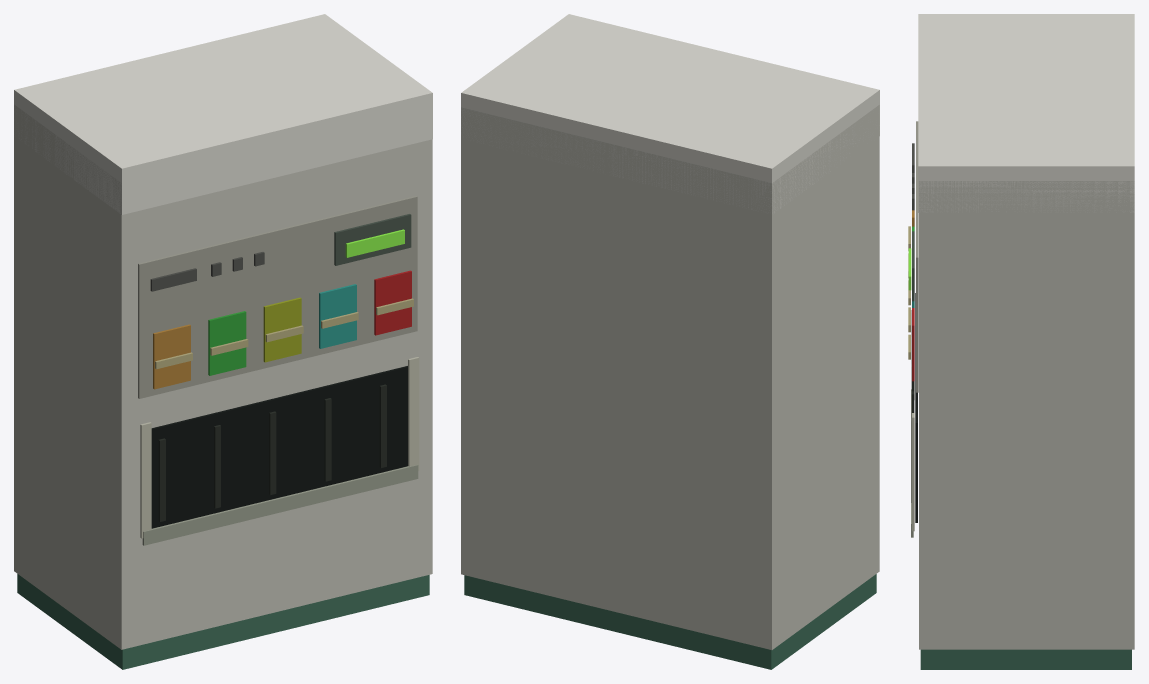
File: CMU3DGroundChemicalDispenser.glb
3 views of the same model, side by side, from view 1: azimuth 30°, elevation 25°; view 2: azimuth 150°, elevation 25°; view 3: azimuth 270°, elevation 25° (orthographic).
Visible parts, largest first — view 1: chemical dispenser cabinet, dispenser top cap, front control panel, black dispensing recess, colored reagent selector (×5), green dispenser base, drip tray, nozzle dark divider (×4), recess side lip (×2), green powered screen border, bright green powered display, small top black label; view 2: chemical dispenser cabinet, dispenser top cap, green dispenser base; view 3: chemical dispenser cabinet, dispenser top cap, green dispenser base, front control panel, black dispensing recess, recess side lip.
Part boxes in pixels (x1,y1,x2,y2): chemical dispenser cabinet: [14, 104, 432, 649]; dispenser top cap: [14, 14, 432, 214]; front control panel: [138, 196, 417, 398]; black dispensing recess: [151, 366, 407, 528]; colored reagent selector (×5): [153, 270, 411, 389]; green dispenser base: [17, 574, 429, 669]; drip tray: [142, 464, 418, 545]; nozzle dark divider (×4): [158, 384, 386, 521]; recess side lip (×2): [140, 357, 419, 538]; green powered screen border: [334, 214, 411, 265]; bright green powered display: [345, 229, 404, 257]; small top black label: [150, 268, 196, 291]; chemical dispenser cabinet: [461, 105, 879, 649]; dispenser top cap: [461, 14, 879, 213]; green dispenser base: [464, 574, 876, 669]; chemical dispenser cabinet: [919, 181, 1134, 649]; dispenser top cap: [918, 14, 1134, 212]; green dispenser base: [920, 649, 1131, 669]; front control panel: [916, 121, 918, 392]; black dispensing recess: [915, 293, 917, 522]; recess side lip: [912, 413, 914, 531].
Size of the model in its own units: 0.782 by 1.21 by 0.4914.
